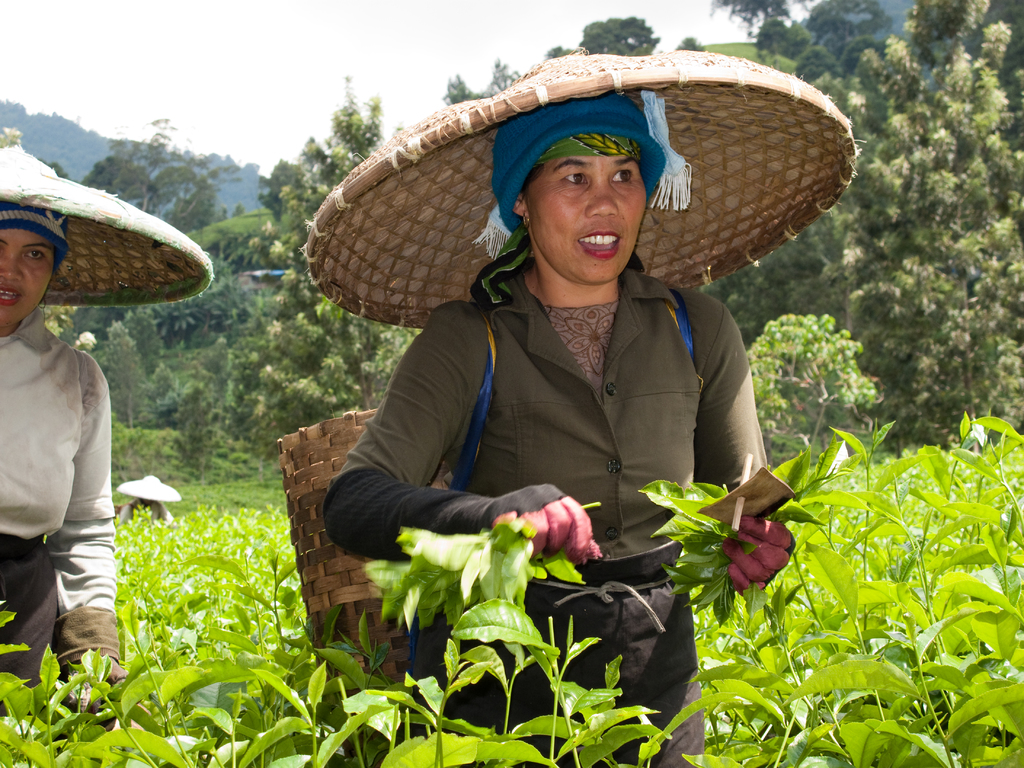Tree: (80, 24, 843, 473), (836, 0, 1023, 451)
